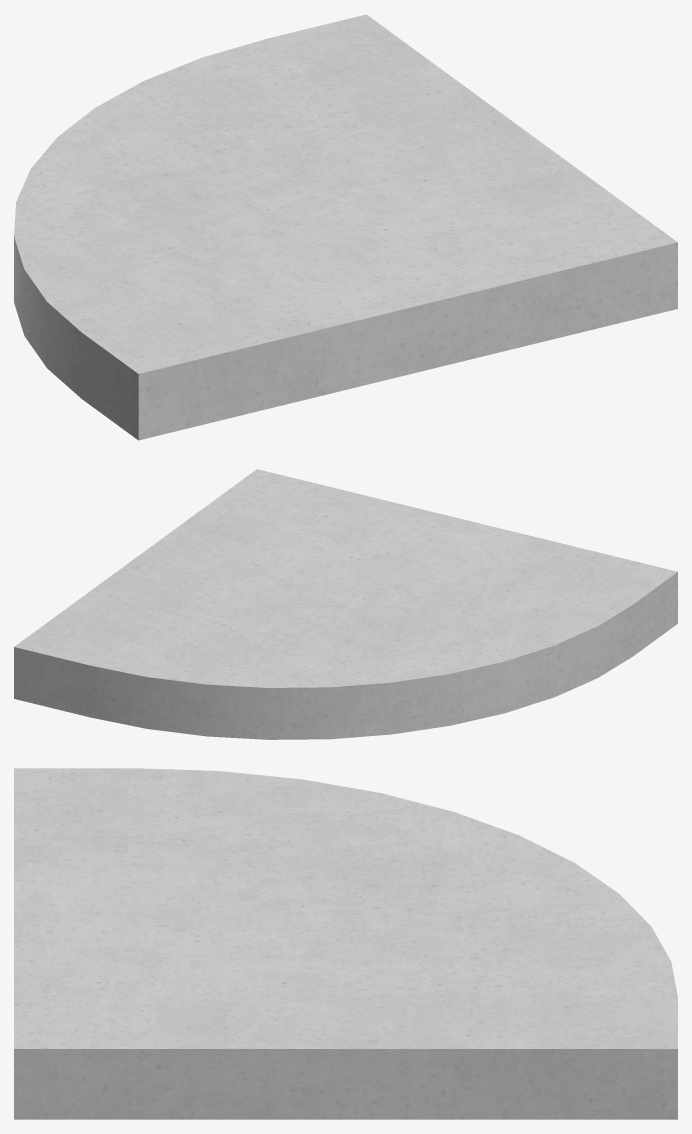
Rendered from MB_Visor_Angle_01_A.fbx.
3 views of the same model, one above another, from view 1: azimuth 30°, elevation 25°; view 2: azimuth 150°, elevation 25°; view 3: azimuth 270°, elevation 25° (orthographic). The views are drawn at different scales.
Visible parts, largest first — view 1: MB_Visor_Angle_01_A; view 2: MB_Visor_Angle_01_A; view 3: MB_Visor_Angle_01_A.
Boxes of the visible parts, x1=… form: MB_Visor_Angle_01_A: x1=14, y1=14, x2=677, y2=440; MB_Visor_Angle_01_A: x1=14, y1=469, x2=677, y2=739; MB_Visor_Angle_01_A: x1=14, y1=768, x2=677, y2=1119.
Size of the model in its own units: 200 by 23.56 by 200.
